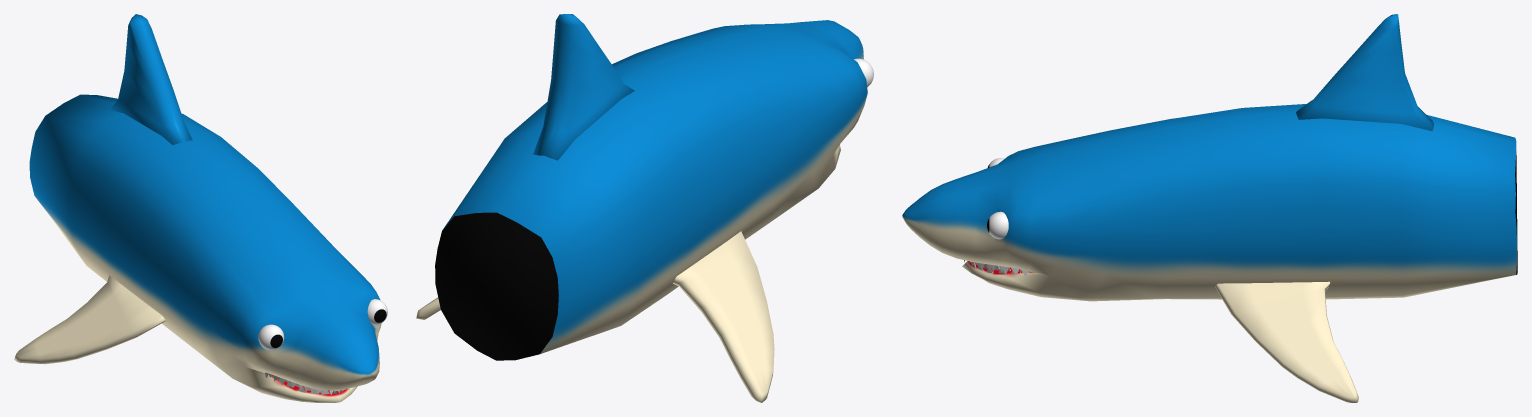
The picture shows the model from 3 angles, left to right: view 1: azimuth 30°, elevation 25°; view 2: azimuth 150°, elevation 25°; view 3: azimuth 270°, elevation 25°; orthographic projection. The views are drawn at different scales.
Parts seen in each view (by area): view 1: 立方体; view 2: 立方体; view 3: 立方体.
Part boxes in pixels (x1,y1,x2,y2): 立方体: (14,14,387,402); 立方体: (416,14,873,402); 立方体: (902,14,1517,402).
Bounding box in the file's own units: 1.57 × 1.58 × 2.79.
Materials: 4 (1 with a texture image).
